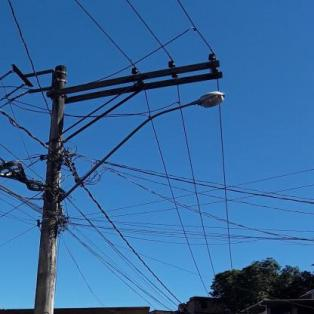Poste: (13, 62, 71, 314)
